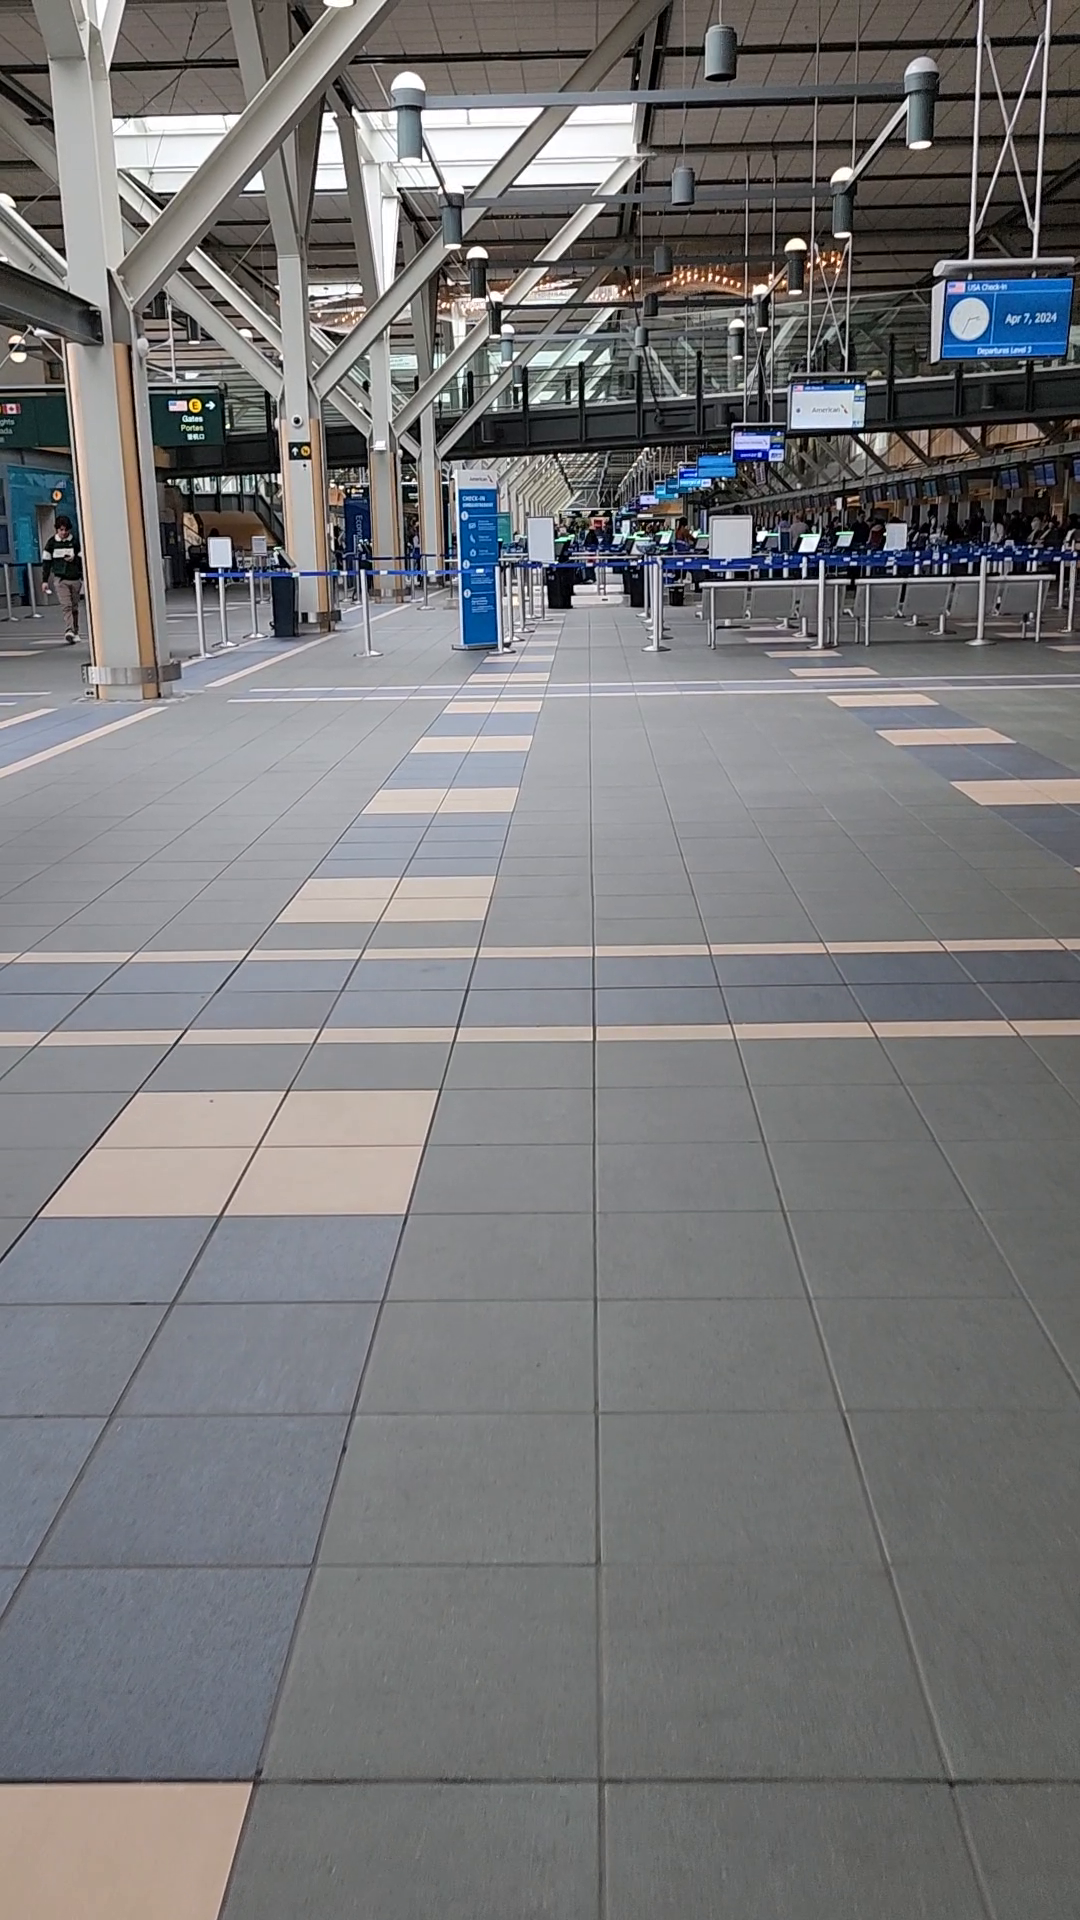Defect: (887, 46, 947, 76)
Stain: (644, 1630, 796, 1779)
